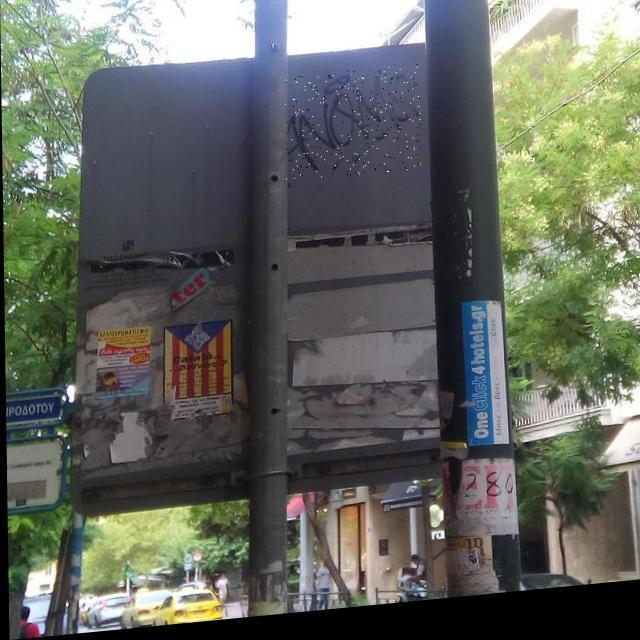-: (284, 72, 420, 188)
